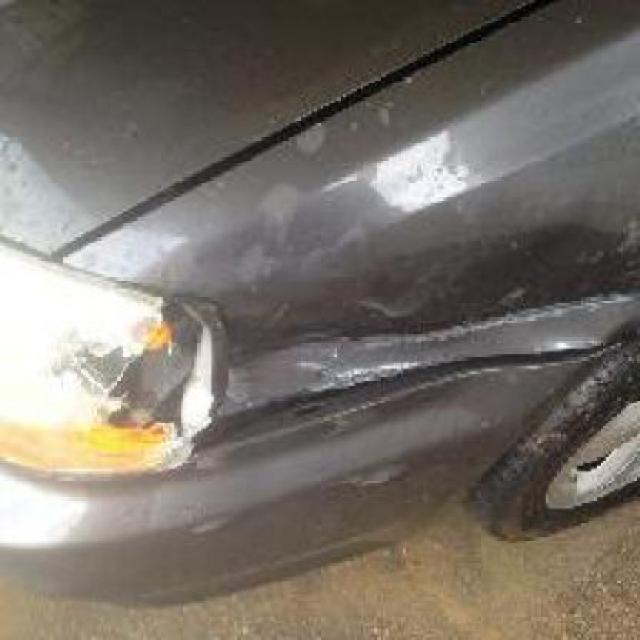damaged-head-light: (0, 254, 220, 476)
dent-or-scratch: (227, 248, 638, 428)
